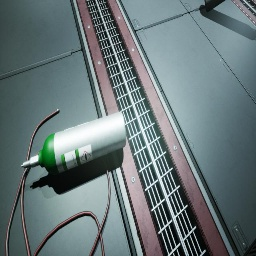0: (21, 111, 126, 175)
NitrogenTank ,: (204, 0, 226, 12)
